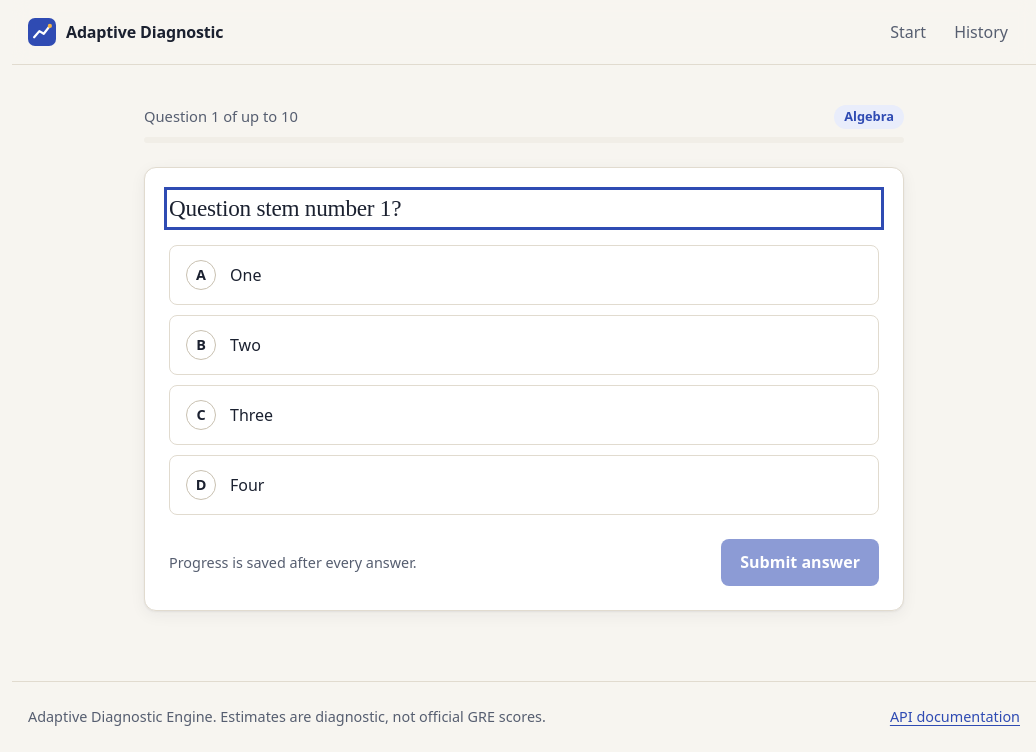
Test: assessment page › goes to results after the final answer
Click the radio button labelled "A One".
click(246, 275)  # box [169, 246, 879, 306]
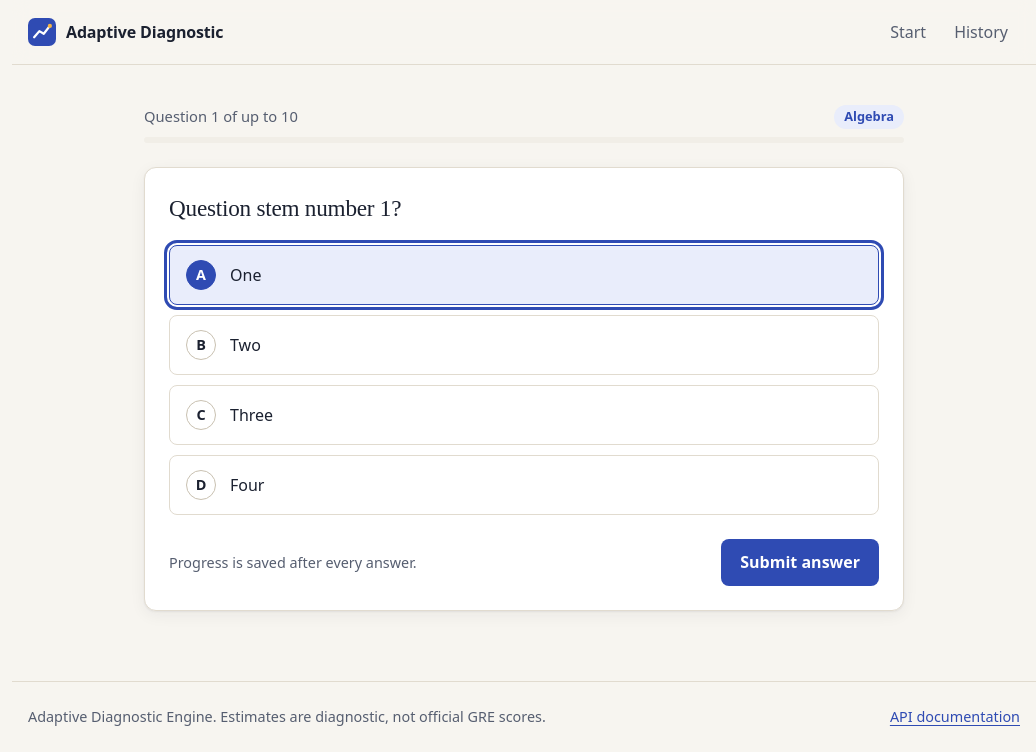
Click the button "Submit answer".
click(800, 563)  # box [721, 540, 879, 586]
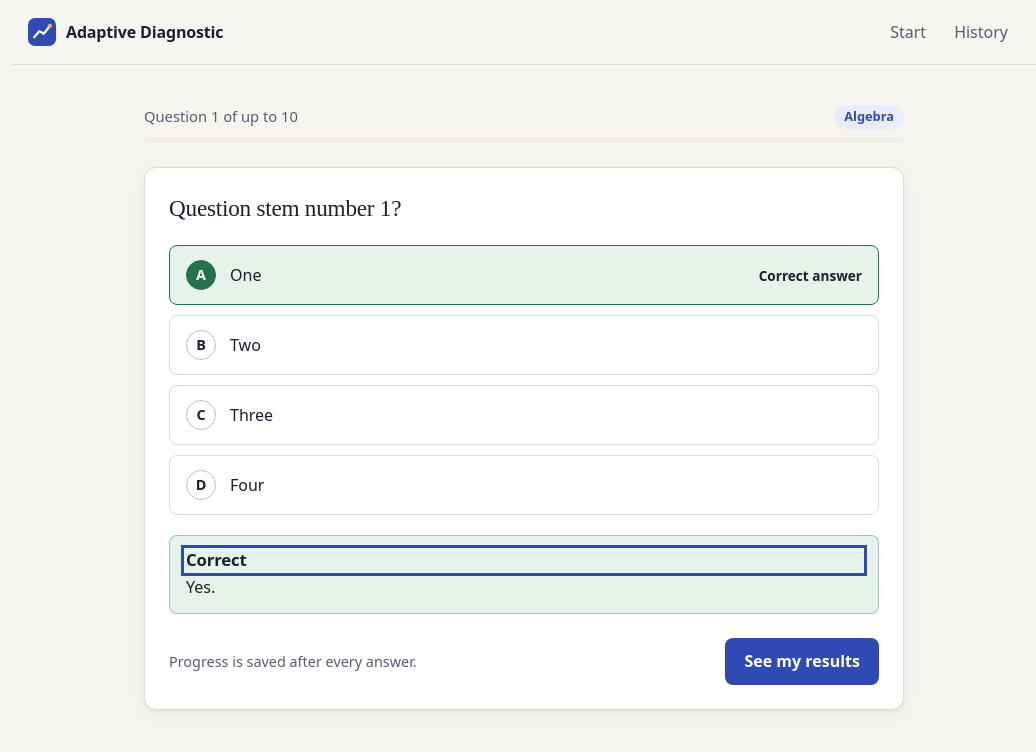
Click the button "See my results".
click(802, 662)  # box [726, 638, 879, 685]
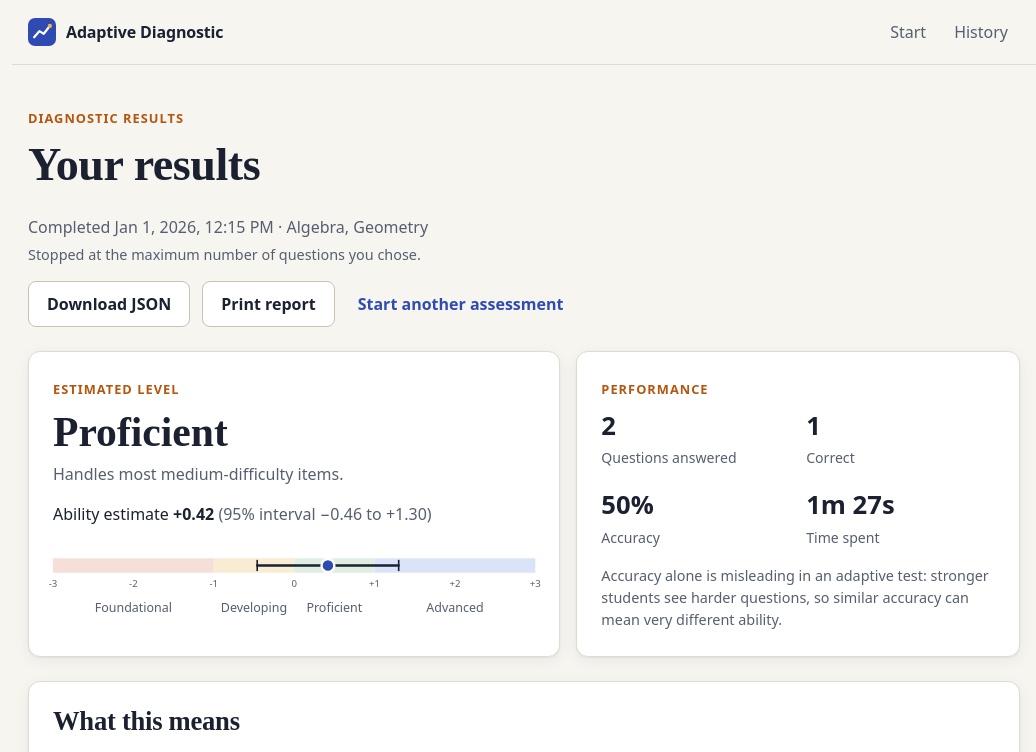
Check: the heading "Your results" is shown, box [28, 139, 260, 190]
